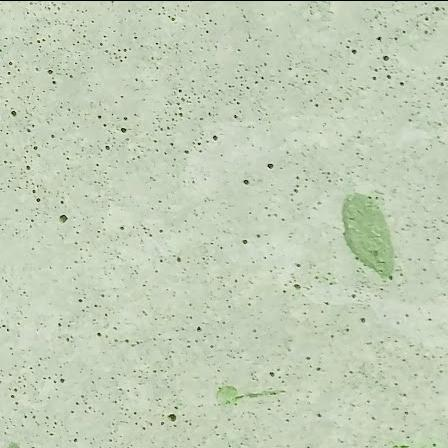spalling: (211, 380, 240, 408)
